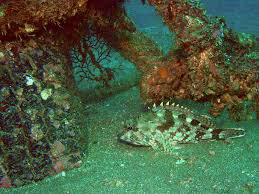kasago: (120, 100, 244, 155)
